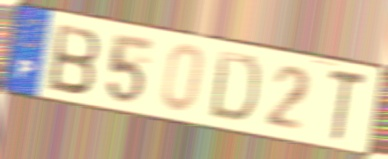0: (157, 42, 207, 116)
2: (263, 65, 313, 134)
5: (106, 30, 157, 105)
B: (46, 21, 103, 98)
D: (206, 48, 262, 126)
T: (326, 66, 369, 144)
